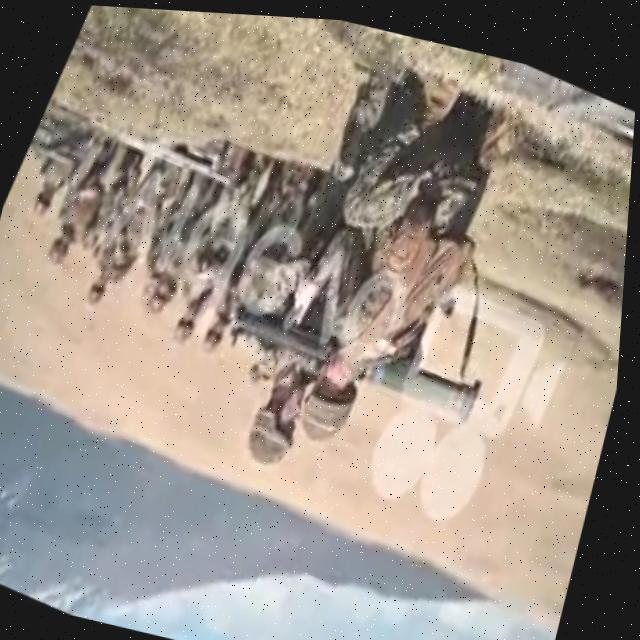rocket: (216, 274, 497, 432)
